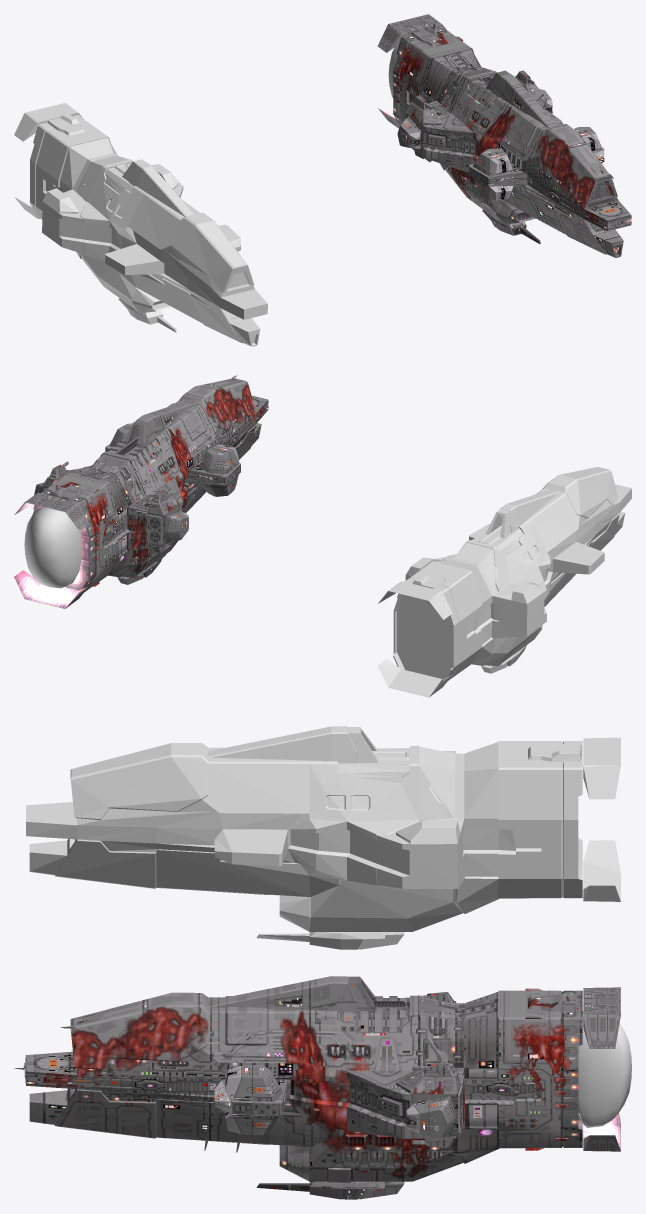
Rendered from hgn_bst_tdn_qwaarjetii.dae.
The picture shows the model from 3 angles, top to bottom: view 1: azimuth 30°, elevation 25°; view 2: azimuth 150°, elevation 25°; view 3: azimuth 270°, elevation 25°; orthographic projection. The views are drawn at different scales.
Visible parts, largest first — view 1: COL[Root], MULT[Root_mesh]_LOD[0], GOBG[Root_goblins], MULT[Weapon_Turret2_Muzzle_mesh]_LOD[0], MULT[Weapon_Ion4_Position_mesh]_LOD[0], MULT[Weapon_Turret4_Muzzle_mesh]_LOD[0]; view 2: COL[Root], MULT[Root_mesh]_LOD[0], GLOW[EngineGlow3]_LOD[0], GOBG[Root_goblins], MULT[Weapon_Turret2_Muzzle_mesh]_LOD[0], MULT[Weapon_Ion4_Position_mesh]_LOD[0]; view 3: COL[Root], MULT[Root_mesh]_LOD[0], GOBG[Root_goblins], GLOW[EngineGlow3]_LOD[0], MULT[Weapon_Turret1_Muzzle_mesh]_LOD[0], MULT[Weapon_Ion3_Position_mesh]_LOD[0], MULT[Weapon_Turret3_Muzzle_mesh]_LOD[0].
Boxes of the visible parts, <box> form: COL[Root]: <box>14,103,267,346</box>; MULT[Root_mesh]_LOD[0]: <box>377,14,631,257</box>; GOBG[Root_goblins]: <box>396,23,631,229</box>; MULT[Weapon_Turret2_Muzzle_mesh]_LOD[0]: <box>472,148,513,176</box>; MULT[Weapon_Ion4_Position_mesh]_LOD[0]: <box>397,116,420,148</box>; MULT[Weapon_Turret4_Muzzle_mesh]_LOD[0]: <box>473,177,513,200</box>; COL[Root]: <box>377,467,631,697</box>; MULT[Root_mesh]_LOD[0]: <box>14,378,268,608</box>; GLOW[EngineGlow3]_LOD[0]: <box>24,506,82,588</box>; GOBG[Root_goblins]: <box>41,375,268,586</box>; MULT[Weapon_Turret2_Muzzle_mesh]_LOD[0]: <box>198,444,239,473</box>; MULT[Weapon_Ion4_Position_mesh]_LOD[0]: <box>164,511,188,543</box>; COL[Root]: <box>26,726,620,949</box>; MULT[Root_mesh]_LOD[0]: <box>26,976,620,1199</box>; GOBG[Root_goblins]: <box>14,988,575,1182</box>; GLOW[EngineGlow3]_LOD[0]: <box>578,1011,631,1127</box>; MULT[Weapon_Turret1_Muzzle_mesh]_LOD[0]: <box>225,1064,282,1101</box>; MULT[Weapon_Ion3_Position_mesh]_LOD[0]: <box>406,1096,456,1138</box>; MULT[Weapon_Turret3_Muzzle_mesh]_LOD[0]: <box>225,1111,278,1135</box>.
Bounding box in the file's own units: 1142 × 338 × 873.
4 materials, 4 textured.
